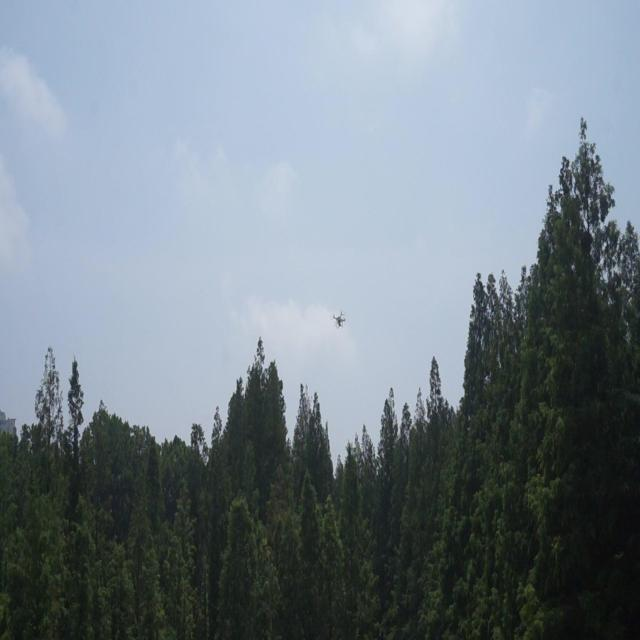drone: (330, 310, 346, 331)
